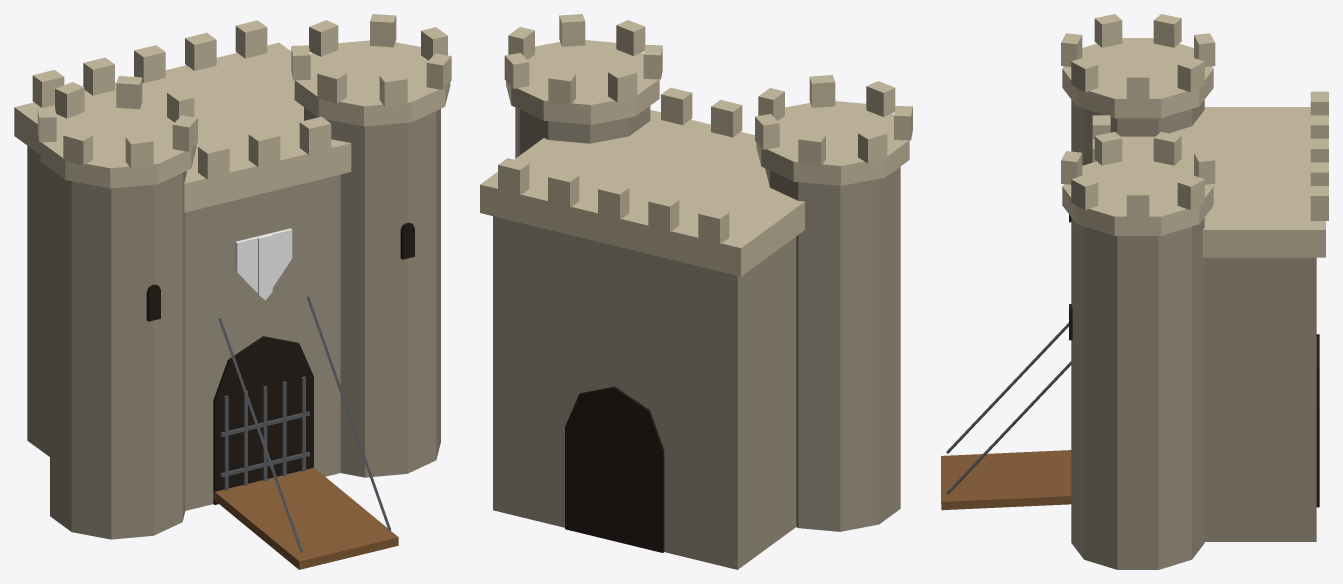
Rendered from castle_gatehouse.glb.
3 views of the same model, side by side, from view 1: azimuth 30°, elevation 25°; view 2: azimuth 150°, elevation 25°; view 3: azimuth 270°, elevation 25° (orthographic). The views are drawn at different scales.
Parts seen in each view (by area): view 1: castle_gatehouse; view 2: castle_gatehouse; view 3: castle_gatehouse.
Part boxes in pixels (bbox=[...]): castle_gatehouse: bbox=[14, 14, 451, 569]; castle_gatehouse: bbox=[480, 14, 912, 569]; castle_gatehouse: bbox=[941, 14, 1328, 569].
Size of the model in its own units: 14.16 by 13.95 by 12.8.
